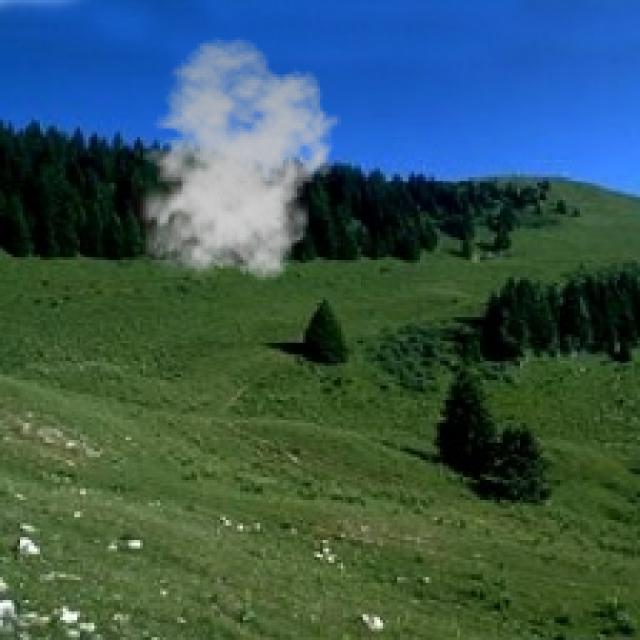smoke: (129, 37, 340, 289)
